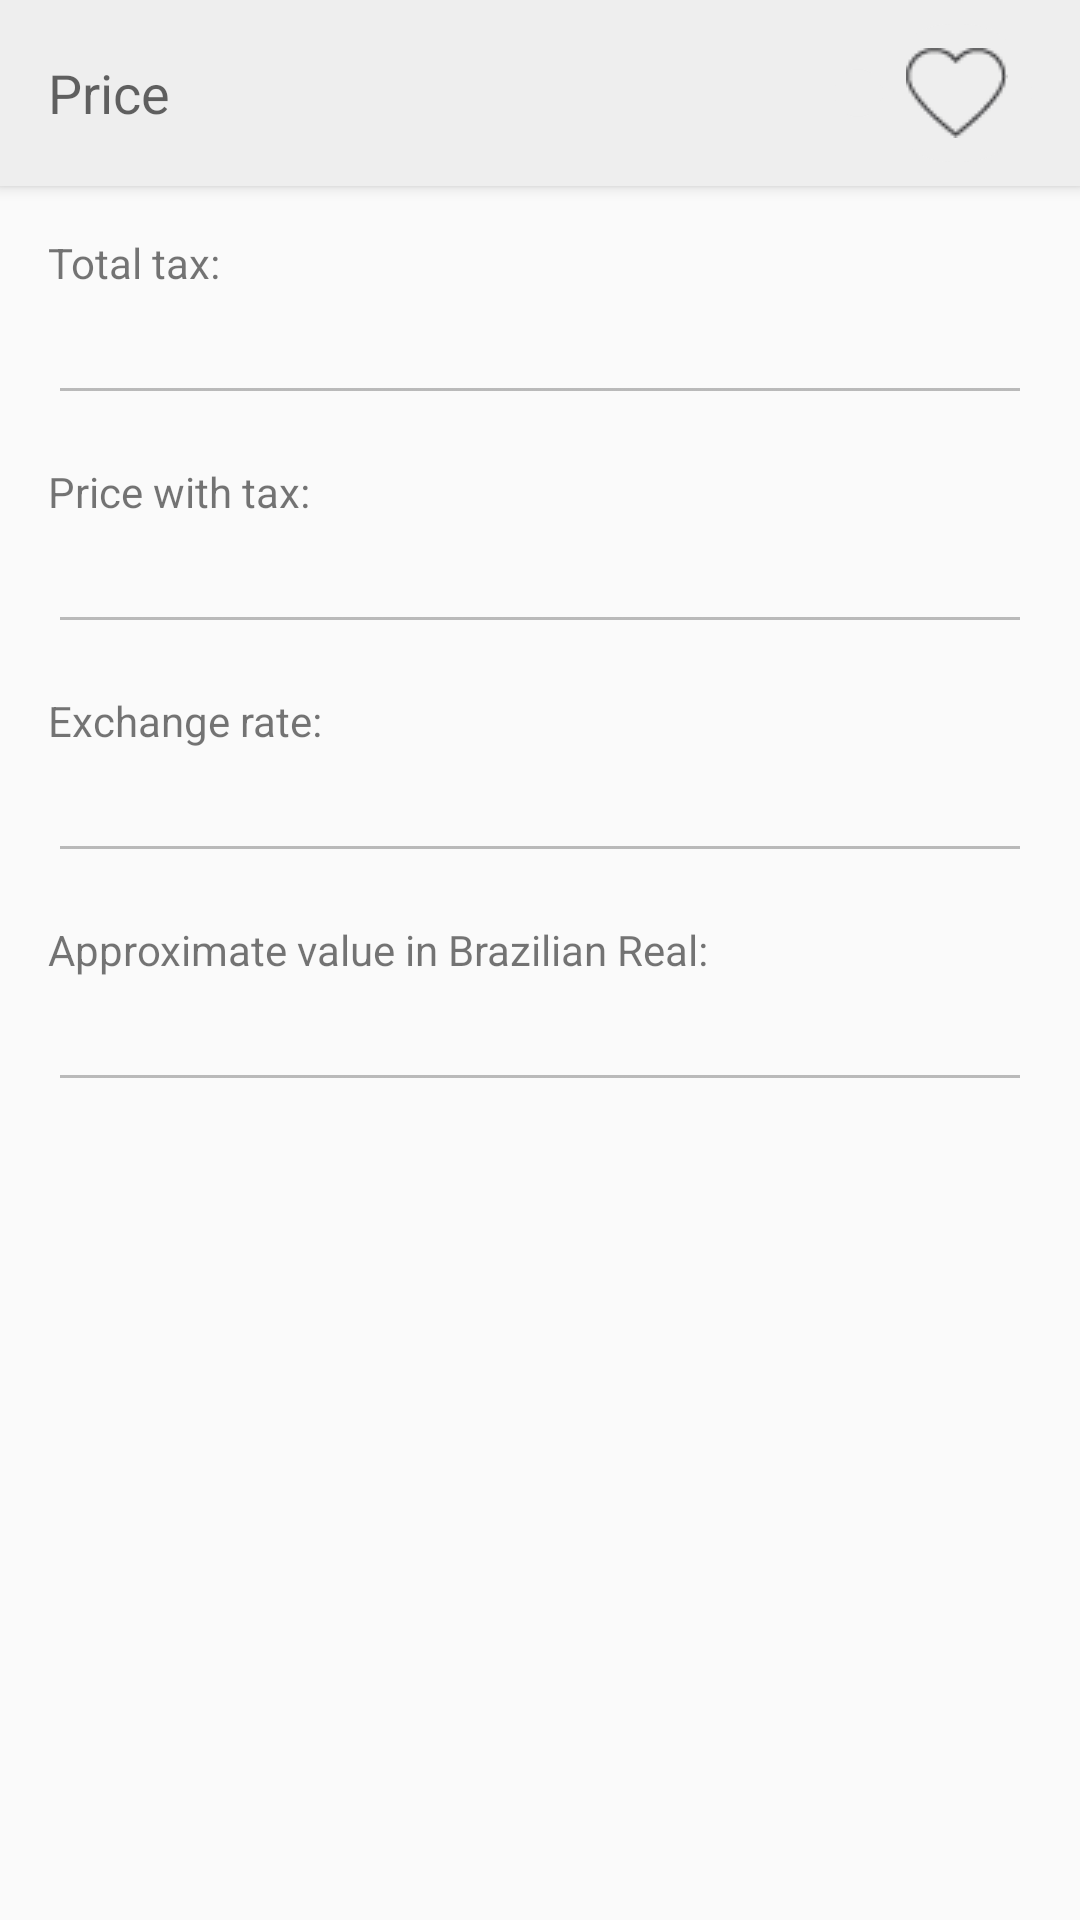

Screen size 1080×1920. Icon name, then its center in pixels as point (x, y):
heart: point (957, 93)
